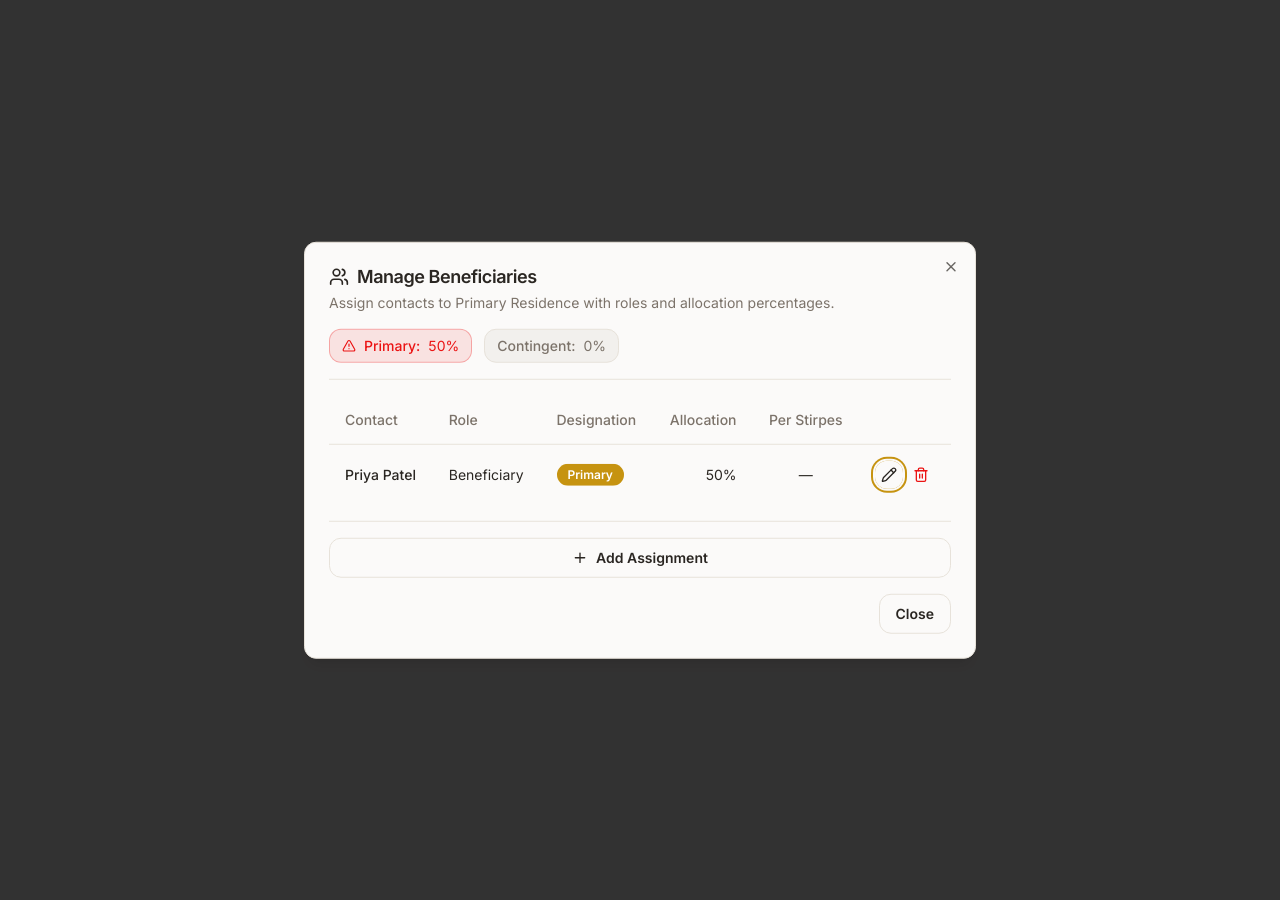
it: BeneficiaryAssignmentDialog — Add Assignment Flow › filters out already-assigned contacts from dropdown
Click the button "Add Assignment".
click(640, 557)  # box [329, 537, 951, 577]
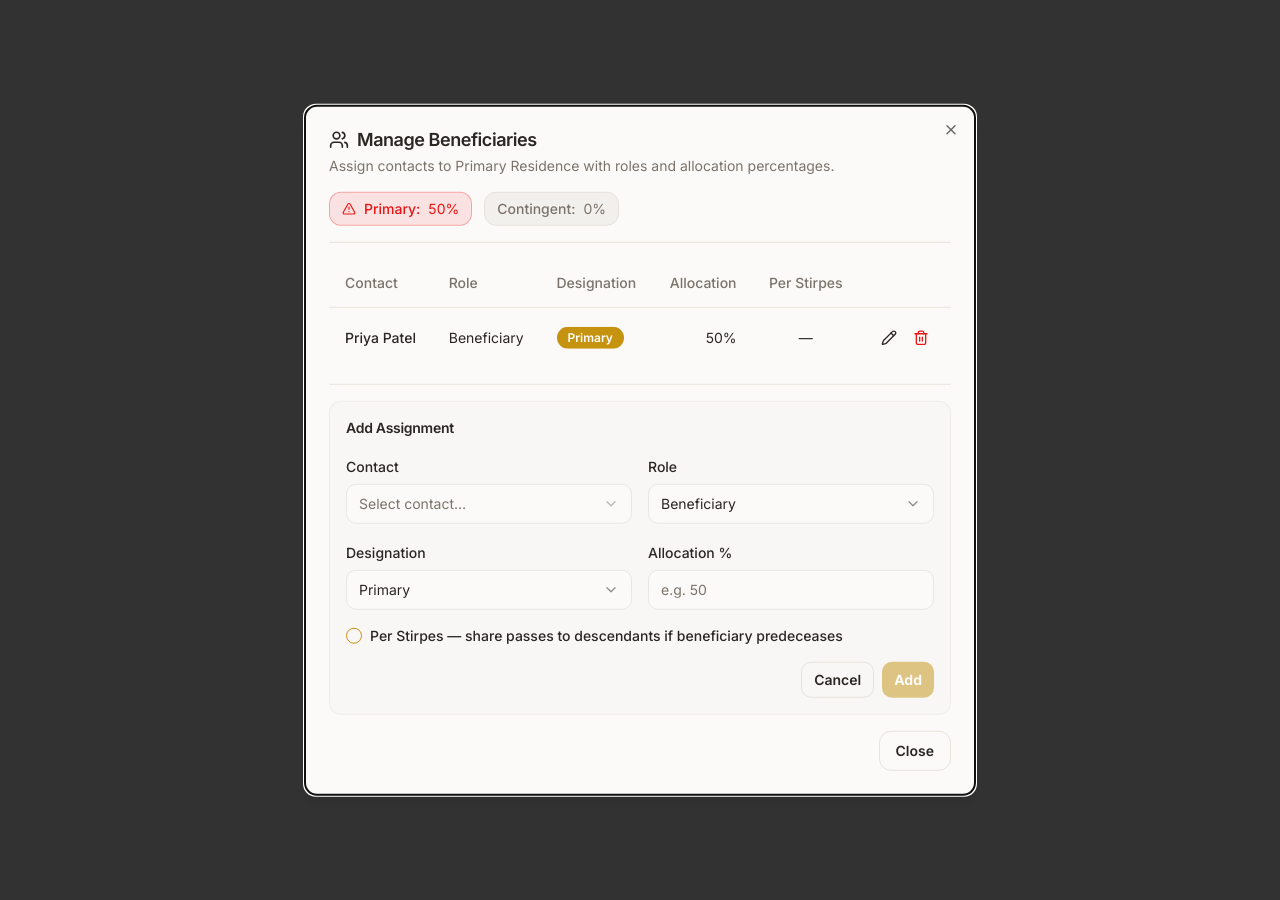
// Open the contact dropdown
Click the dropdown "Select contact…".
click(413, 503)  # box [346, 483, 632, 523]
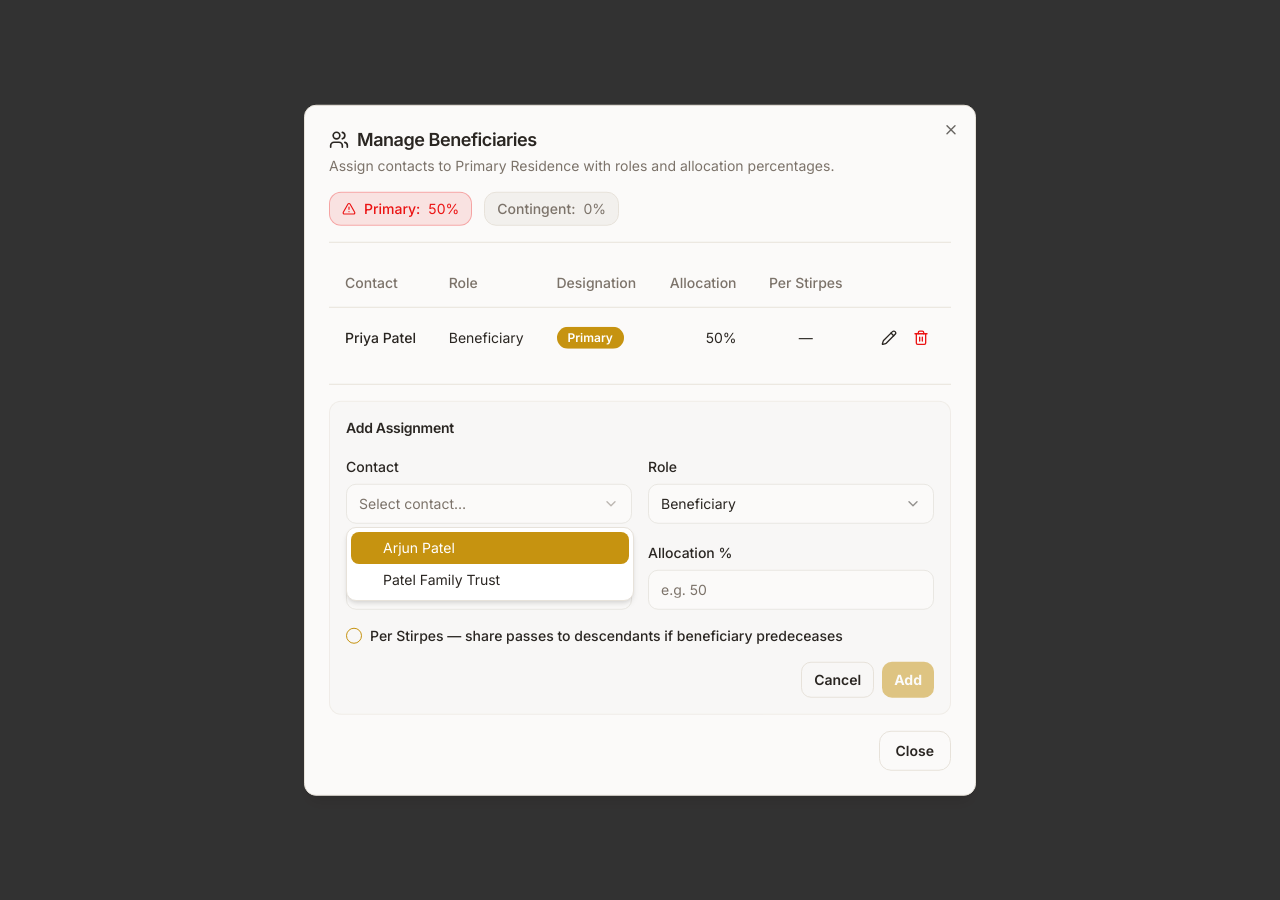
Check: the text "Arjun Patel" is shown, box [383, 538, 455, 558]
Check: the text "Patel Family Trust" is shown, box [383, 570, 500, 590]
